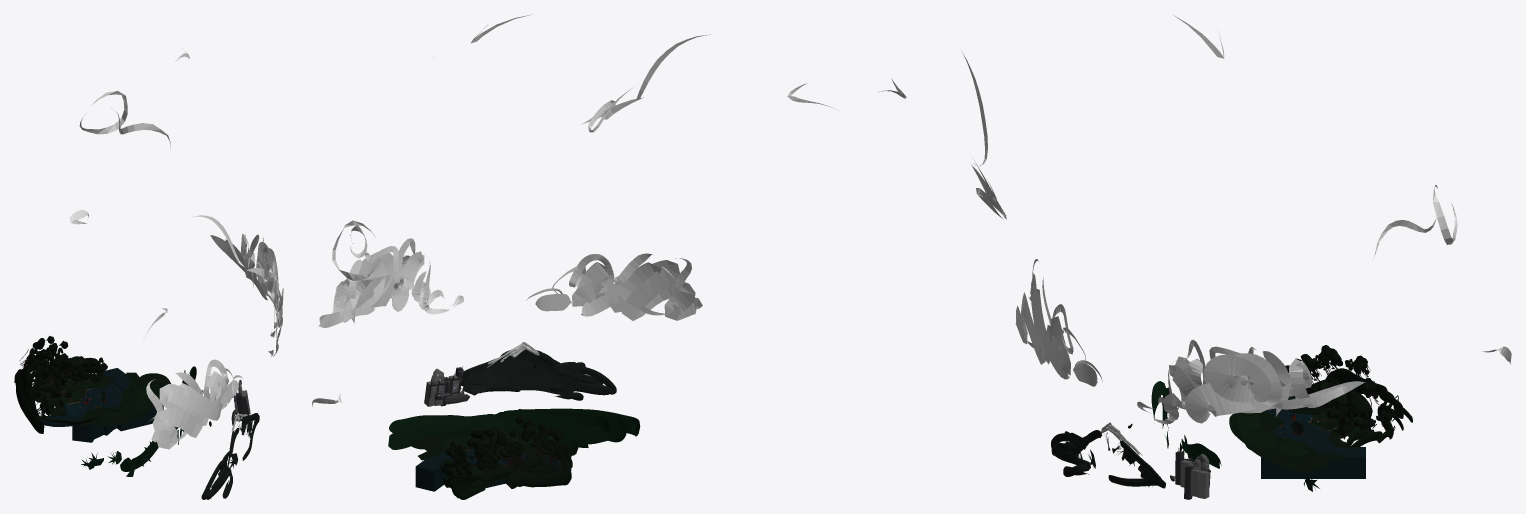
The model's file is 1layer-bg_2-nodome.fbx.
The picture shows the model from 3 angles, left to right: view 1: azimuth 30°, elevation 25°; view 2: azimuth 150°, elevation 25°; view 3: azimuth 270°, elevation 25°; orthographic projection. The views are drawn at different scales.
Parts seen in each view (by area): view 1: Everything; view 2: Everything; view 3: Everything.
Part boxes in pixels (<box>): Everything: <box>14,46,283,499</box>; Everything: <box>312,14,834,499</box>; Everything: <box>879,15,1511,499</box>.
Bounding box in the file's own units: 45.15 × 59.19 × 73.45.
